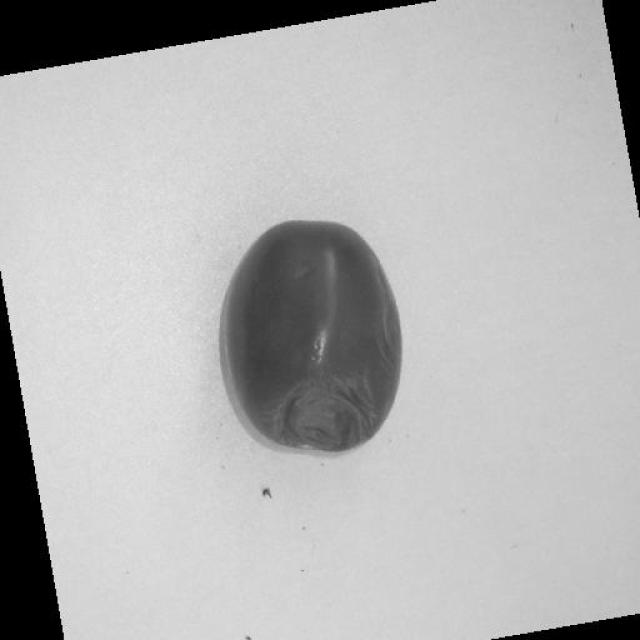Stale_tomato: (229, 352, 394, 462)
